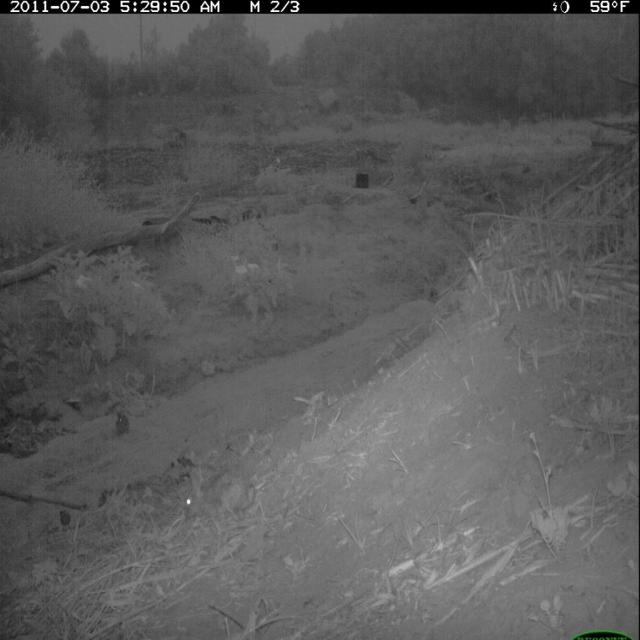rabbit: (177, 466, 271, 535), (112, 394, 142, 456)
